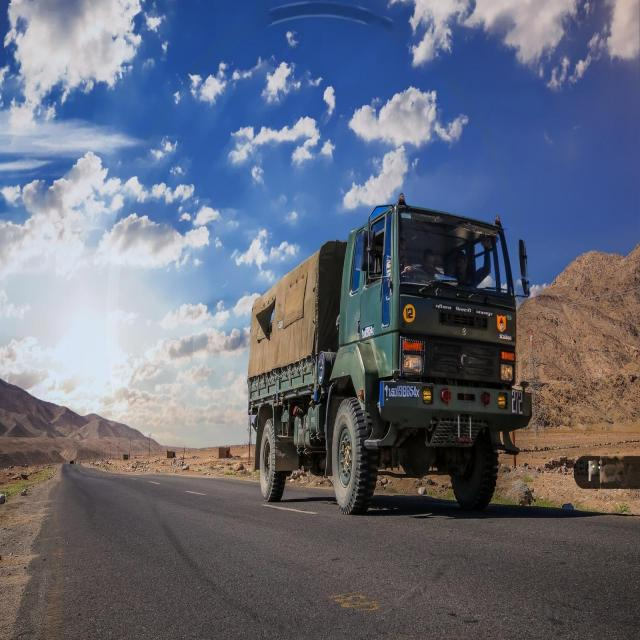truck: (248, 202, 531, 514)
